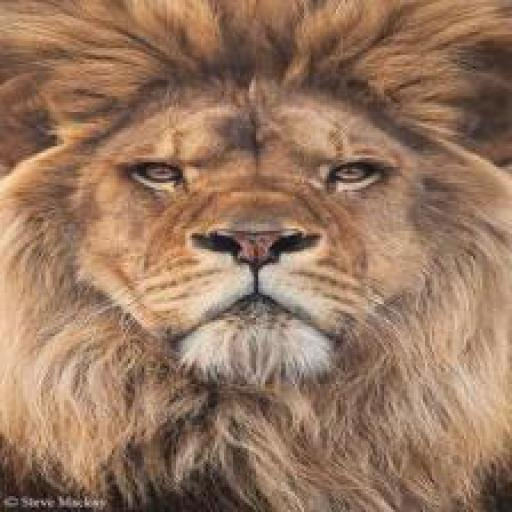lion: (0, 50, 499, 399)
